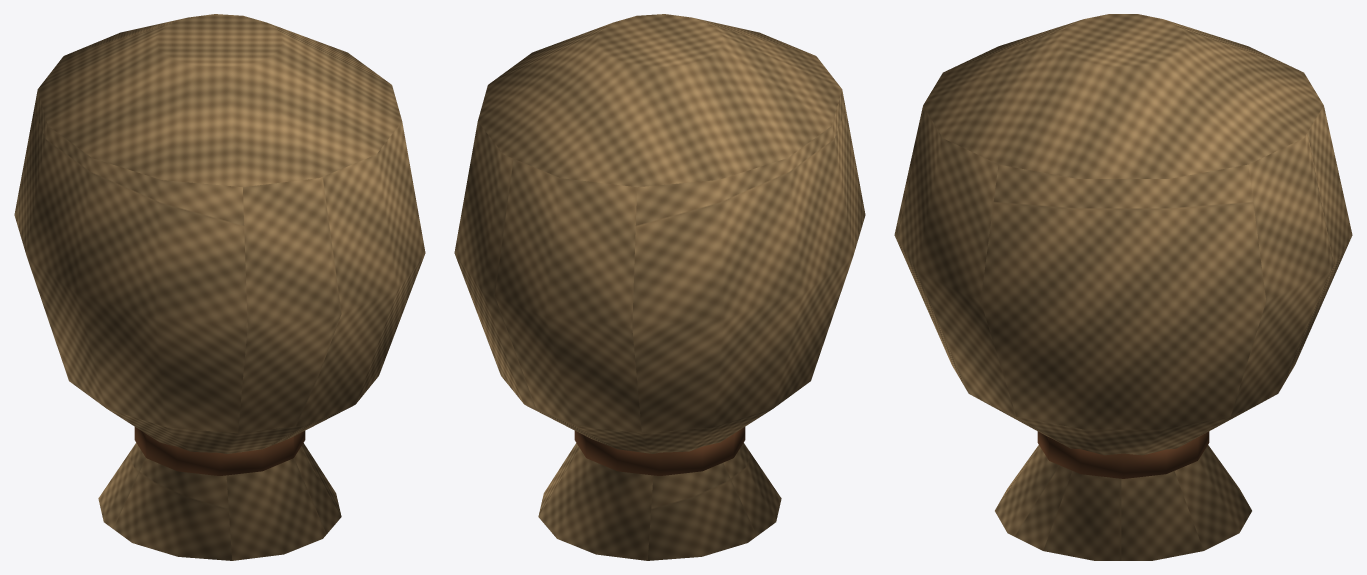
The model's file is semillas.glb.
3 renders of one model, left to right at view 1: azimuth 30°, elevation 25°; view 2: azimuth 150°, elevation 25°; view 3: azimuth 270°, elevation 25°, orthographic.
Parts seen in each view (by area): view 1: semillas; view 2: semillas; view 3: semillas.
Part boxes in pixels (x1=…): semillas: x1=14, y1=14, x2=425, y2=560; semillas: x1=454, y1=14, x2=865, y2=560; semillas: x1=894, y1=14, x2=1352, y2=560.
Size of the model in its own units: 0.1092 by 0.145 by 0.128.
2 materials, 2 textured.
